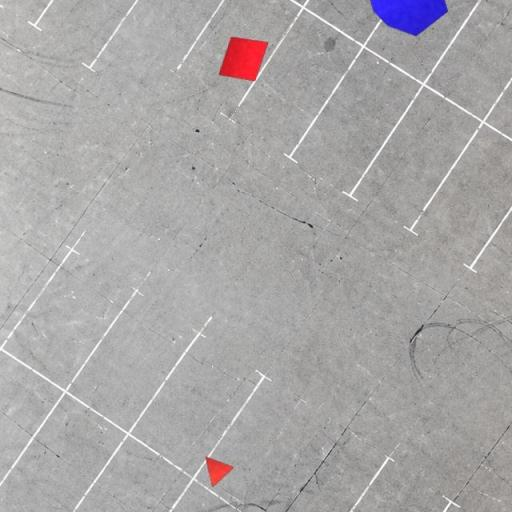RED_SQUARE: (218, 36, 268, 82)
